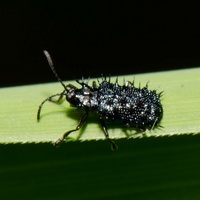insect: (37, 50, 162, 144)
